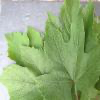grape leaf: (36, 14, 99, 99), (0, 45, 43, 99)
